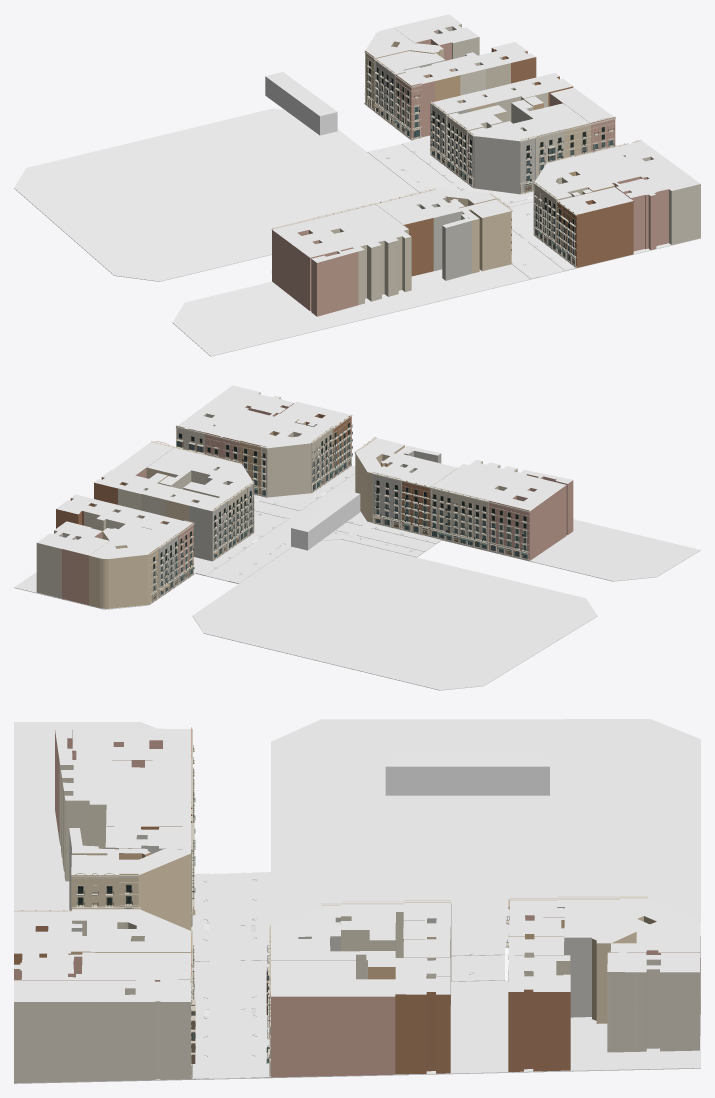
The picture shows the model from 3 angles, top to bottom: view 1: azimuth 30°, elevation 25°; view 2: azimuth 150°, elevation 25°; view 3: azimuth 270°, elevation 25°; orthographic projection. The views are drawn at different scales.
Parts seen in each view (by area): view 1: BCN_MC2_terreno, BCN_MC1_terreno, BCN_C03_viario_BCN-PG-30, BCNgen_L-MC1-006_envolvente, BCNgen_L-MD1-001_envolvente, BCNgen_L-MC1-007_envolvente, BCNgen_L-MD2-001_envolvente, BCNgen_L-MC1-007_cubierta, H08_Pasion_franja_rectangular_base_conos, BCNgen_L-MC1-004_envolvente, BCNgen_L-MD1-005_envolvente, BCNgen_L-MD1-005_cubierta (+40 smaller); view 2: BCN_MC2_terreno, BCN_MC1_terreno, BCN_C03_viario_BCN-PG-30, BCNgen_L-MD2-018_envolvente, BCNgen_L-MC1-007_fachada_01, BCN_C04_viario_BCN-PG-30, BCNgen_L-MC1-006_envolvente, BCNgen_L-MD1-006_envolvente, BCNgen_L-MC1-007_cubierta, H08_Pasion_franja_rectangular_base_conos, BCNgen_L-MC1-006_fachada_01, BCNgen_L-MD1-005_cubierta (+32 smaller); view 3: BCN_MC2_terreno, BCNgen_L-MD1-004_envolvente, BCN_C04_viario_BCN-PG-30, BCNgen_L-MD2-004_envolvente, BCN_MC1_terreno, BCN_MD2_terreno, BCNgen_L-MD2-019_envolvente, H08_Pasion_franja_rectangular_base_conos, BCNgen_L-MC1-007_cubierta, BCNgen_L-MD2-016_envolvente, BCNgen_L-MD1-005_cubierta, BCNgen_L-MD2-008_envolvente (+40 smaller).
Part boxes in pixels (left/top/right/bottom): BCN_MC2_terreno: left=14, top=108, right=419, bottom=281; BCN_MC1_terreno: left=172, top=264, right=530, bottom=356; BCN_C03_viario_BCN-PG-30: left=367, top=141, right=575, bottom=278; BCNgen_L-MC1-006_envolvente: left=272, top=230, right=358, bottom=316; BCNgen_L-MD1-001_envolvente: left=576, top=200, right=633, bottom=267; BCNgen_L-MC1-007_envolvente: left=330, top=228, right=411, bottom=305; BCNgen_L-MD2-001_envolvente: left=474, top=126, right=522, bottom=194; BCNgen_L-MC1-007_cubierta: left=315, top=204, right=410, bottom=251; H08_Pasion_franja_rectangular_base_conos: left=265, top=72, right=337, bottom=135; BCNgen_L-MC1-004_envolvente: left=462, top=209, right=511, bottom=273; BCNgen_L-MD1-005_envolvente: left=612, top=176, right=668, bottom=251; BCNgen_L-MD1-005_cubierta: left=576, top=148, right=668, bottom=197; BCN_MC2_terreno: left=192, top=539, right=597, bottom=690; BCN_MC1_terreno: left=360, top=511, right=700, bottom=581; BCN_C03_viario_BCN-PG-30: left=195, top=465, right=365, bottom=583; BCNgen_L-MD2-018_envolvente: left=89, top=531, right=149, bottom=608; BCNgen_L-MC1-007_fachada_01: left=430, top=486, right=488, bottom=551; BCN_C04_viario_BCN-PG-30: left=254, top=494, right=441, bottom=557; BCNgen_L-MC1-006_envolvente: left=488, top=474, right=573, bottom=560; BCNgen_L-MD1-006_envolvente: left=267, top=431, right=311, bottom=497; BCNgen_L-MC1-007_cubierta: left=431, top=459, right=530, bottom=501; H08_Pasion_franja_rectangular_base_conos: left=291, top=489, right=360, bottom=550; BCNgen_L-MC1-006_fachada_01: left=488, top=500, right=529, bottom=561; BCNgen_L-MD1-005_cubierta: left=206, top=394, right=293, bottom=440; BCN_MC2_terreno: left=271, top=719, right=700, bottom=947; BCNgen_L-MD1-004_envolvente: left=14, top=988, right=190, bottom=1083; BCN_C04_viario_BCN-PG-30: left=191, top=872, right=270, bottom=1079; BCNgen_L-MD2-004_envolvente: left=271, top=996, right=395, bottom=1077; BCN_MC1_terreno: left=14, top=722, right=156, bottom=910; BCN_MD2_terreno: left=271, top=980, right=700, bottom=1078; BCNgen_L-MD2-019_envolvente: left=607, top=958, right=700, bottom=1052; H08_Pasion_franja_rectangular_base_conos: left=385, top=753, right=549, bottom=795; BCNgen_L-MC1-007_cubierta: left=59, top=760, right=190, bottom=804; BCNgen_L-MD2-016_envolvente: left=508, top=989, right=570, bottom=1071; BCNgen_L-MD1-005_cubierta: left=14, top=952, right=190, bottom=979; BCNgen_L-MD2-008_envolvente: left=395, top=992, right=450, bottom=1074.
Bounding box in the file's own units: 223 × 41.03 × 180.
Materials: 27 (1 with a texture image).
